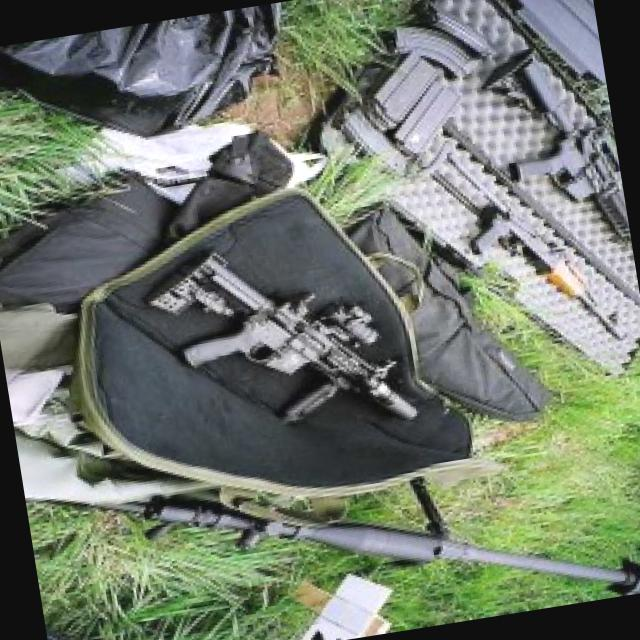long weapon: (140, 210, 428, 470)
